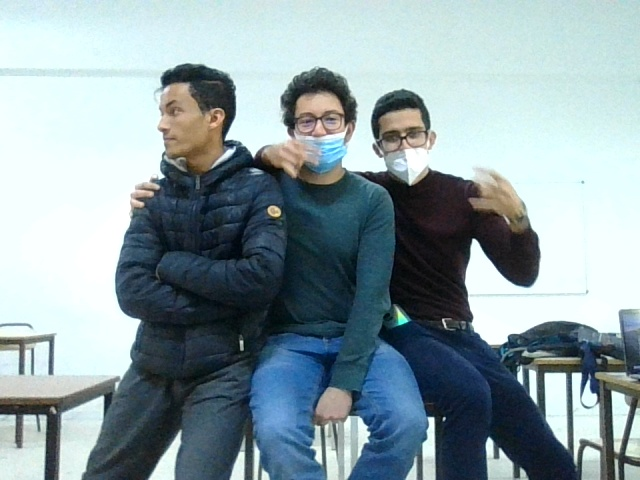mask_weared_incorrect: (380, 122, 439, 189), (296, 107, 346, 170)
without_mask: (154, 93, 207, 159)
